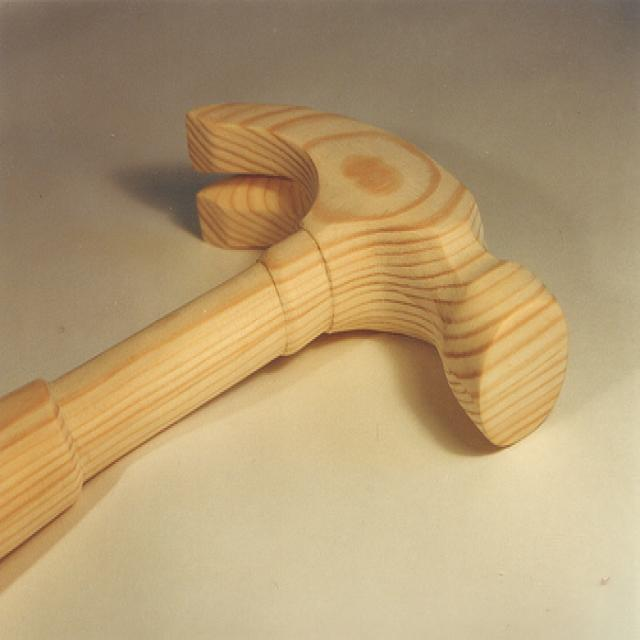hammer: (0, 79, 577, 577)
